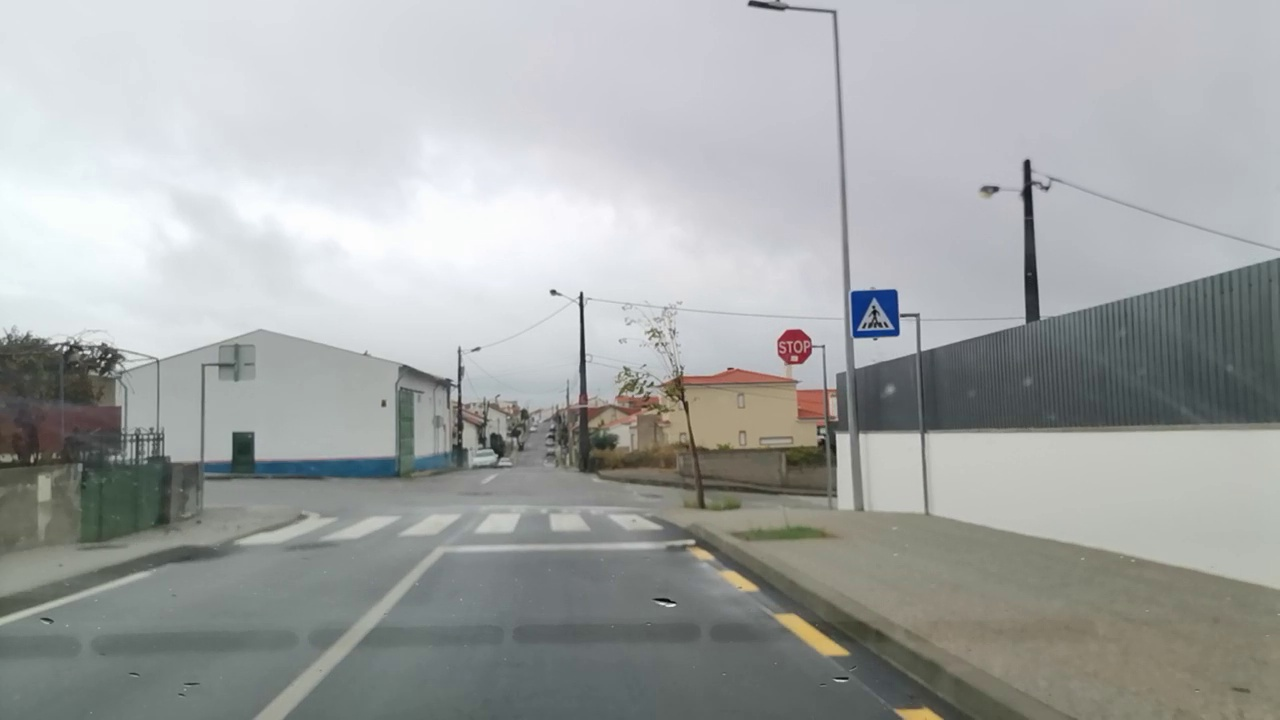Stairs: (232, 510, 664, 544)
